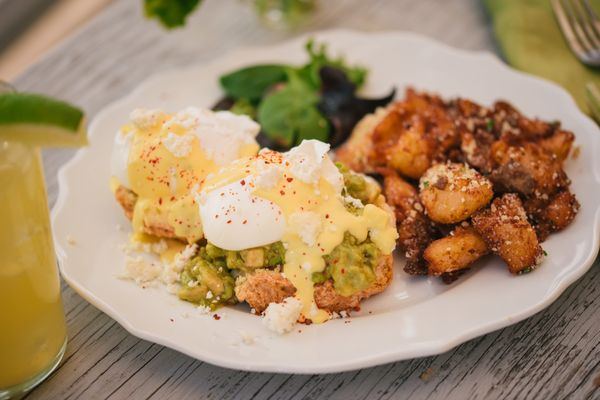curry: (218, 39, 381, 149)
